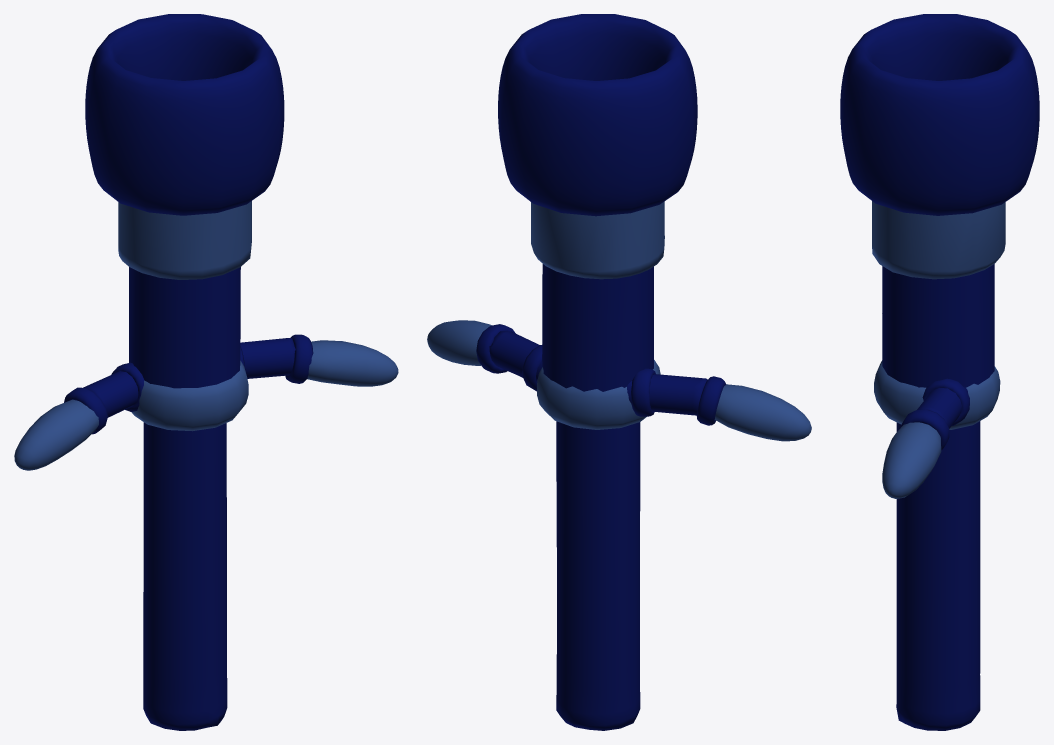
The model's file is Station_Cannon_Body.FBX.
3 views of the same model, side by side, from view 1: azimuth 30°, elevation 25°; view 2: azimuth 150°, elevation 25°; view 3: azimuth 270°, elevation 25° (orthographic).
Visible parts, largest first — view 1: Station_Cannon_Body; view 2: Station_Cannon_Body; view 3: Station_Cannon_Body.
Part boxes in pixels (x1,y1,x2,y2): Station_Cannon_Body: [14, 14, 398, 730]; Station_Cannon_Body: [427, 14, 811, 730]; Station_Cannon_Body: [840, 14, 1039, 730].
Size of the model in its own units: 10.13 by 16.96 by 4.59.
